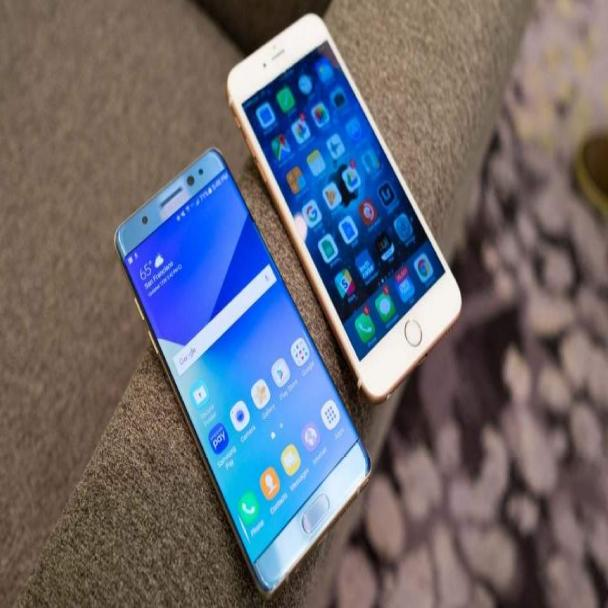Handphone: (114, 139, 376, 600), (224, 6, 469, 414)
